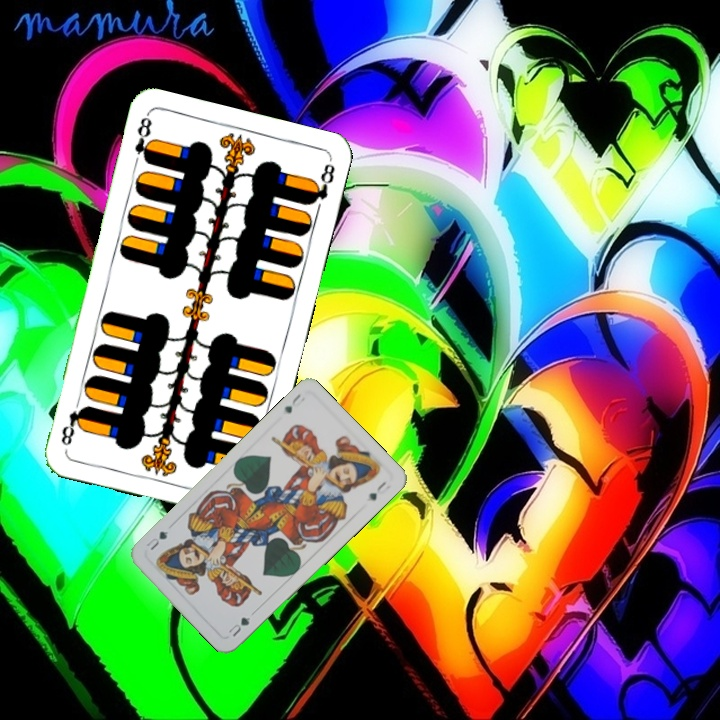E8: (130, 111, 156, 166)
GU: (223, 613, 253, 640), (280, 390, 308, 416)
